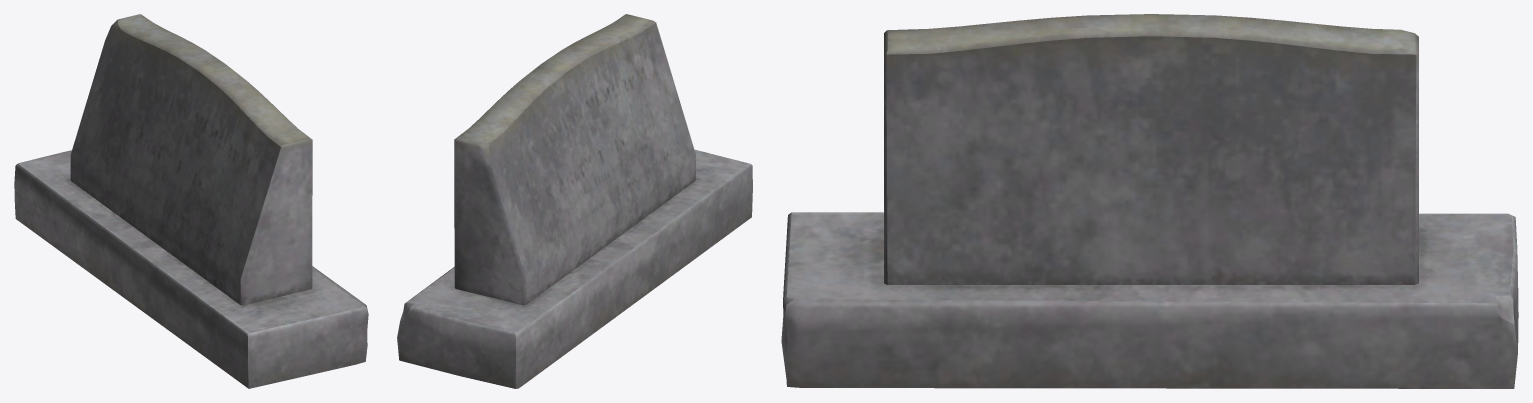
File: Cemetery_OBJ_Tombstone_03.fbx
The picture shows the model from 3 angles, left to right: view 1: azimuth 30°, elevation 25°; view 2: azimuth 150°, elevation 25°; view 3: azimuth 270°, elevation 25°; orthographic projection. The views are drawn at different scales.
Parts seen in each view (by area): view 1: Cemetery_OBJ_Tombstone_03; view 2: Cemetery_OBJ_Tombstone_03; view 3: Cemetery_OBJ_Tombstone_03.
Part boxes in pixels (left/top/right/bottom): Cemetery_OBJ_Tombstone_03: left=14, top=14, right=368, bottom=388; Cemetery_OBJ_Tombstone_03: left=397, top=14, right=752, bottom=388; Cemetery_OBJ_Tombstone_03: left=781, top=14, right=1518, bottom=388.
Size of the model in its own units: 53.69 by 91.56 by 181.
Materials: 1 (1 with a texture image).
